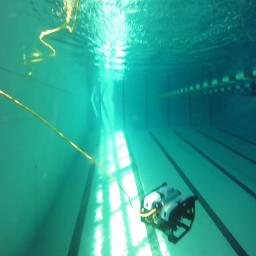back: (140, 182, 199, 245), (140, 182, 198, 244)
